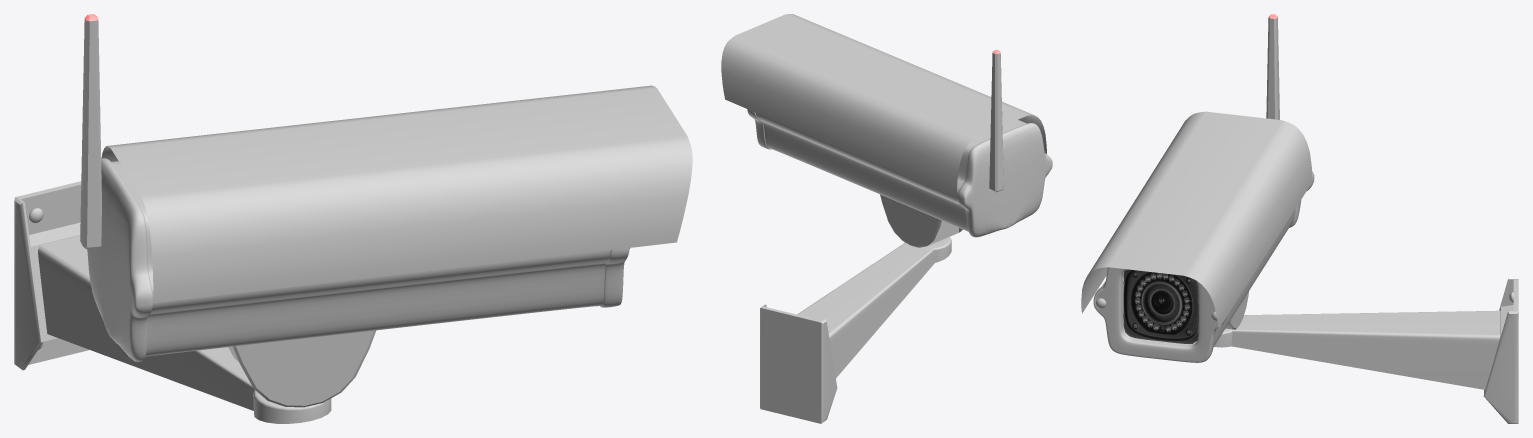
The picture shows the model from 3 angles, left to right: view 1: azimuth 30°, elevation 25°; view 2: azimuth 150°, elevation 25°; view 3: azimuth 270°, elevation 25°; orthographic projection. The views are drawn at different scales.
Visible parts, largest first — view 1: SecurityCamera, SecurityCameraBase; view 2: SecurityCamera, SecurityCameraBase; view 3: SecurityCamera, SecurityCameraBase.
Boxes of the visible parts, x1=… form: SecurityCamera: x1=80, y1=14, x2=692, y2=407; SecurityCameraBase: x1=14, y1=181, x2=331, y2=423; SecurityCamera: x1=721, y1=14, x2=1052, y2=247; SecurityCameraBase: x1=760, y1=237, x2=951, y2=423; SecurityCamera: x1=1081, y1=14, x2=1314, y2=362; SecurityCameraBase: x1=1214, y1=279, x2=1518, y2=423.
Size of the model in its own units: 10.17 by 9.37 by 10.89.
5 materials, 1 textured.
